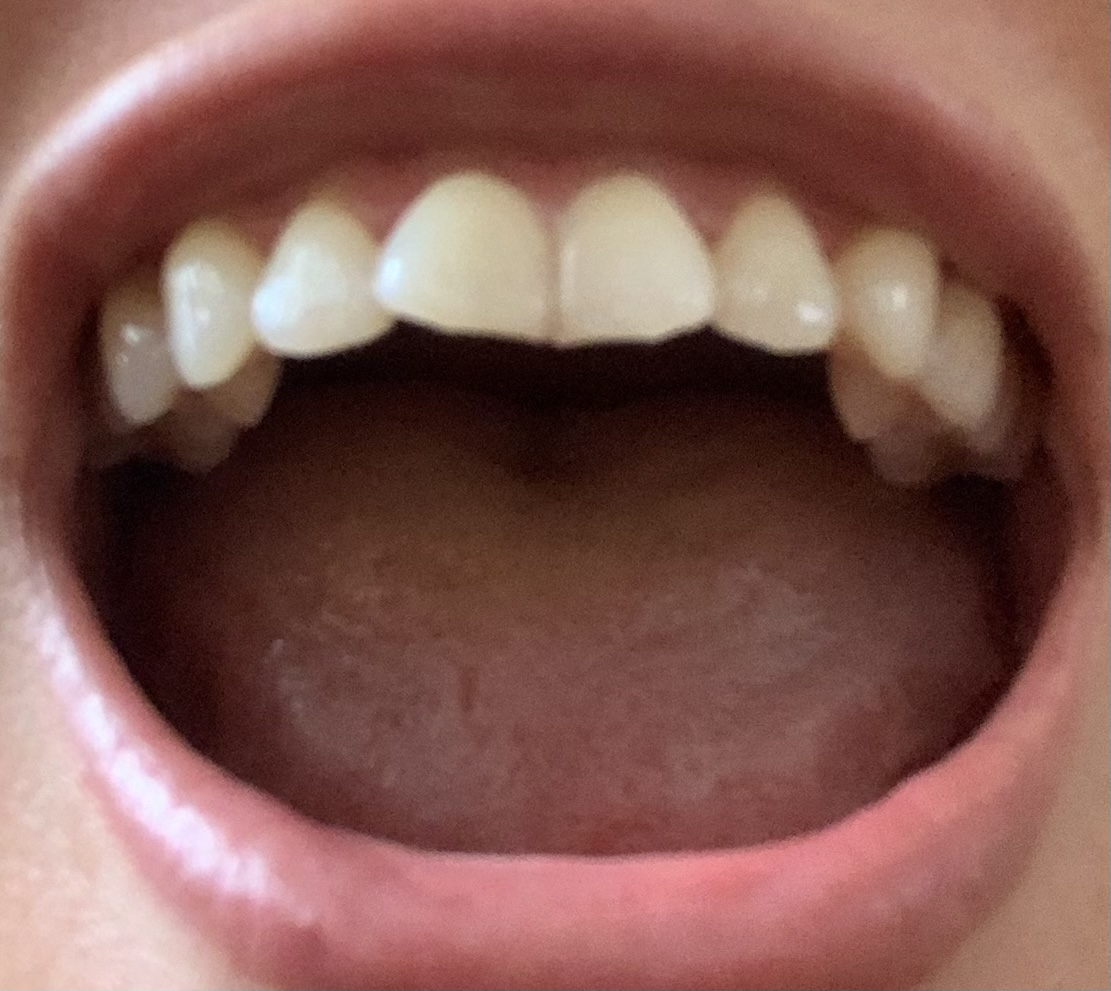teeth: (394, 177, 530, 339), (577, 185, 691, 327), (732, 205, 824, 356), (267, 226, 355, 331), (872, 235, 935, 369), (170, 235, 225, 383), (110, 300, 154, 409), (960, 301, 999, 393)
